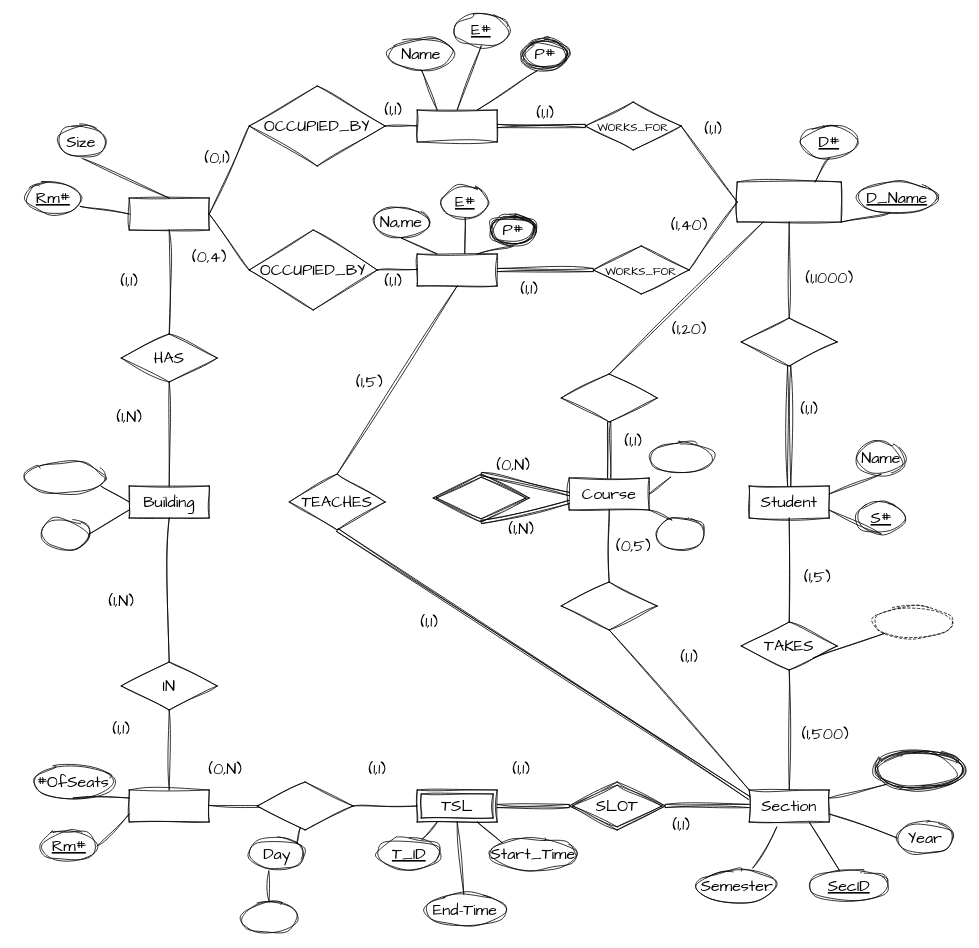
This 979x948 diagram has some shape labels left out. The box of each missing label's shape, as (x1, y1, x2, y2) in pixels:
B#: (40, 517, 89, 550)
B_Name: (24, 461, 105, 494)
C#: (656, 517, 705, 550)
Chair: (416, 109, 497, 142)
Classroom: (128, 789, 209, 822)
Department: (736, 181, 841, 222)
Grade: (872, 605, 953, 638)
Hours: (648, 441, 713, 474)
IN_USE: (256, 781, 353, 830)
Instructor: (416, 253, 497, 286)
MAJORS: (740, 317, 837, 366)
OFFERS: (560, 373, 657, 422)
Office: (128, 197, 209, 230)
PREREQ: (432, 473, 529, 522)
SECS: (560, 581, 657, 630)
Ti,me: (240, 901, 297, 934)
Txtbooks: (872, 749, 965, 790)
